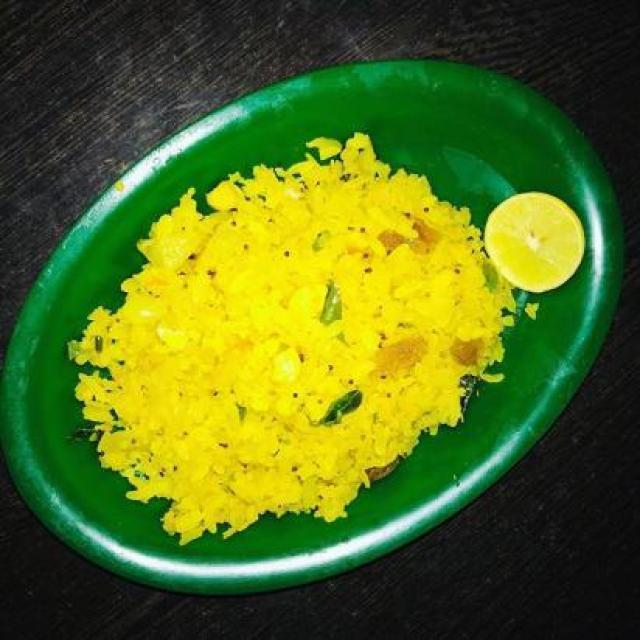poha: (89, 162, 518, 496)
